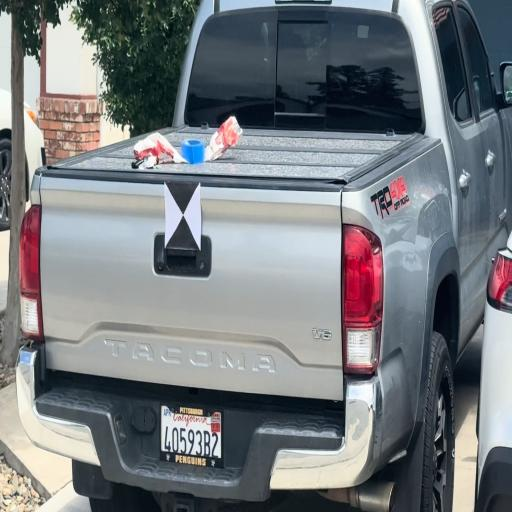target: (165, 181, 201, 250)
